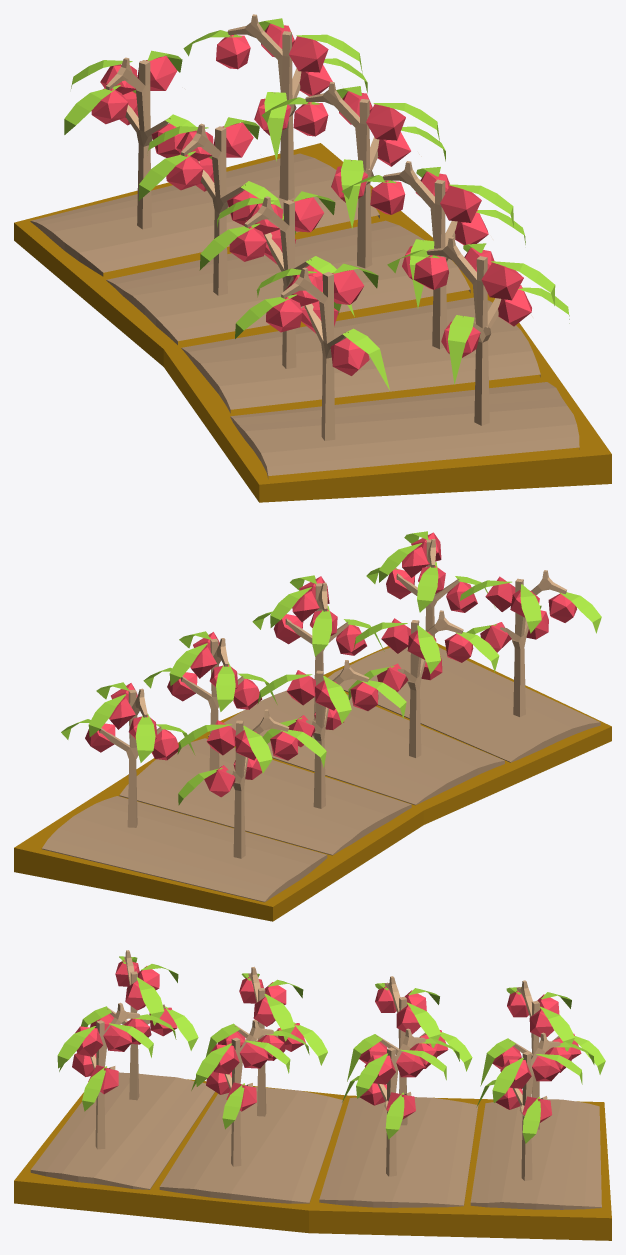
Rendered from outercircle-planted.fbx.
The picture shows the model from 3 angles, top to bottom: view 1: azimuth 30°, elevation 25°; view 2: azimuth 150°, elevation 25°; view 3: azimuth 270°, elevation 25°; orthographic projection. The views are drawn at different scales.
Parts seen in each view (by area): view 1: Cylinder.118, Vert.020; view 2: Cylinder.118, Vert.020; view 3: Cylinder.118, Vert.020.
Part boxes in pixels (x1,y1,x2,y2): Cylinder.118: (14, 143, 611, 502); Vert.020: (64, 14, 569, 440); Cylinder.118: (14, 643, 611, 921); Vert.020: (61, 531, 601, 858); Cylinder.118: (14, 1072, 611, 1240); Vert.020: (57, 950, 605, 1180).
Bounding box in the file's own units: 1405 × 732 × 2389.
